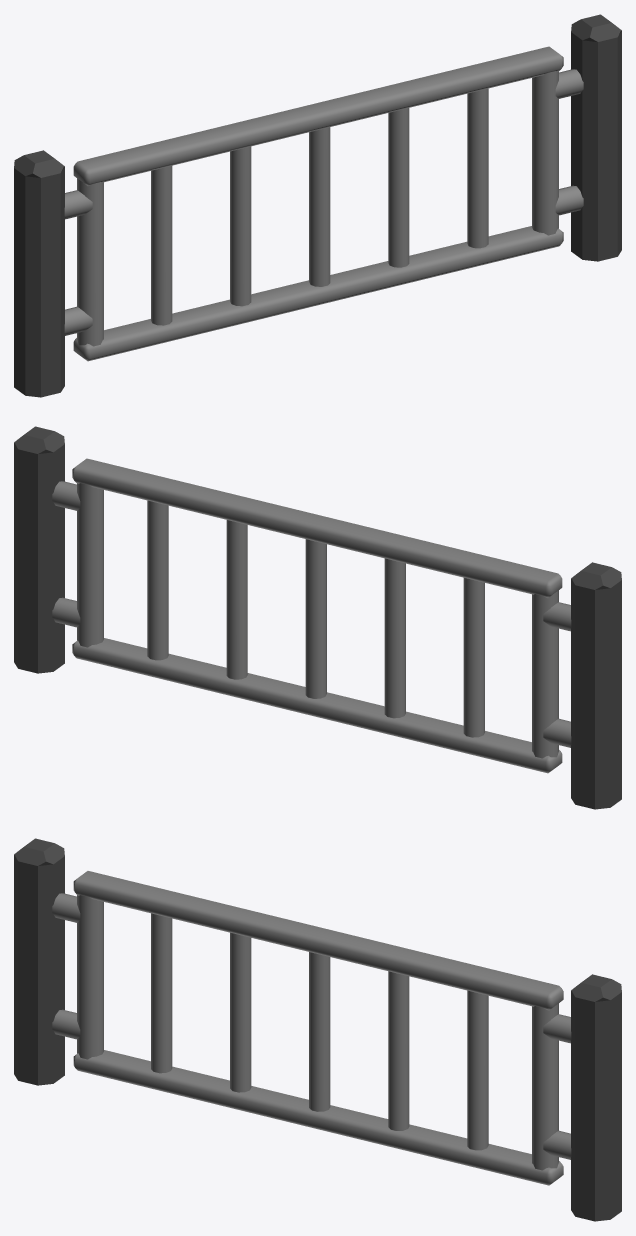
Rendered from fence.fbx.
The picture shows the model from 3 angles, top to bottom: view 1: azimuth 30°, elevation 25°; view 2: azimuth 150°, elevation 25°; view 3: azimuth 330°, elevation 25°; orthographic projection.
Parts seen in each view (by area): view 1: fence; view 2: fence; view 3: fence.
Boxes of the visible parts, left/top/right/bottom form: fence: left=14, top=14, right=621, bottom=397; fence: left=14, top=426, right=621, bottom=809; fence: left=14, top=838, right=621, bottom=1221.
Bounding box in the file's own units: 52.61 × 19.37 × 3.49.
1 material, 1 textured.
